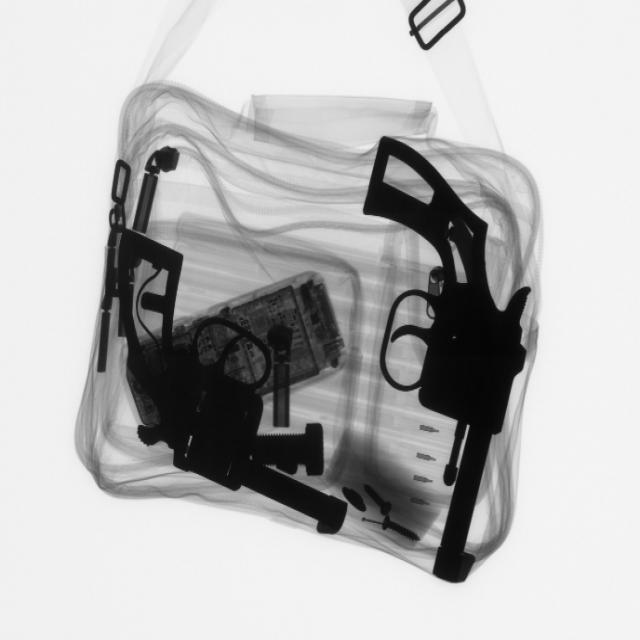GUN: (365, 130, 544, 585), (125, 227, 354, 542)
